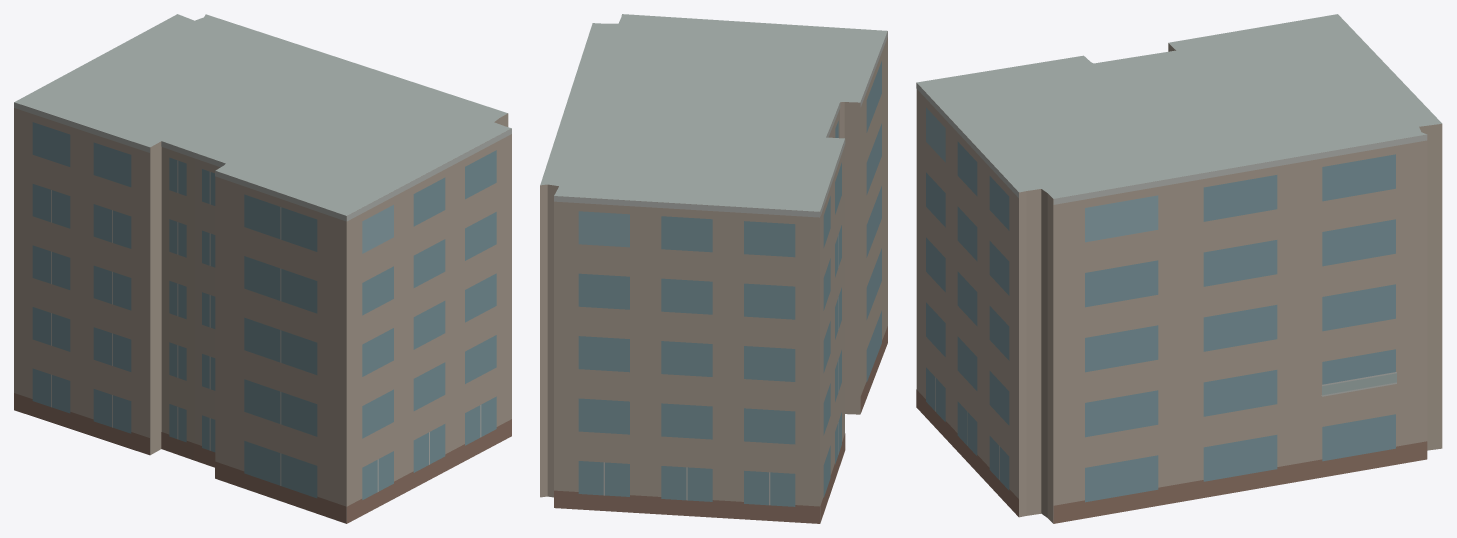
Rendered from survey-upis-32893273.glb.
3 views of the same model, side by side, from view 1: azimuth 30°, elevation 25°; view 2: azimuth 150°, elevation 25°; view 3: azimuth 270°, elevation 25° (orthographic). The views are drawn at different scales.
Parts seen in each view (by area): view 1: survey-upis-32893273.tmp; view 2: survey-upis-32893273.tmp; view 3: survey-upis-32893273.tmp.
Boxes of the visible parts, left/top/right/bottom form: survey-upis-32893273.tmp: left=14, top=14, right=511, bottom=523; survey-upis-32893273.tmp: left=540, top=14, right=887, bottom=523; survey-upis-32893273.tmp: left=916, top=14, right=1442, bottom=523.
Size of the model in its own units: 16.25 by 13.3 by 19.52.
